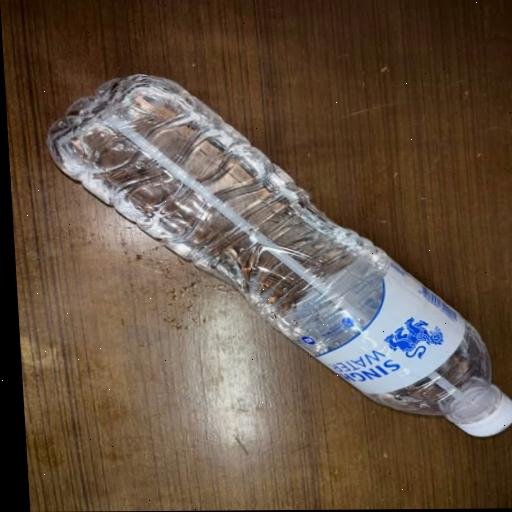ba: (30, 56, 512, 449)
